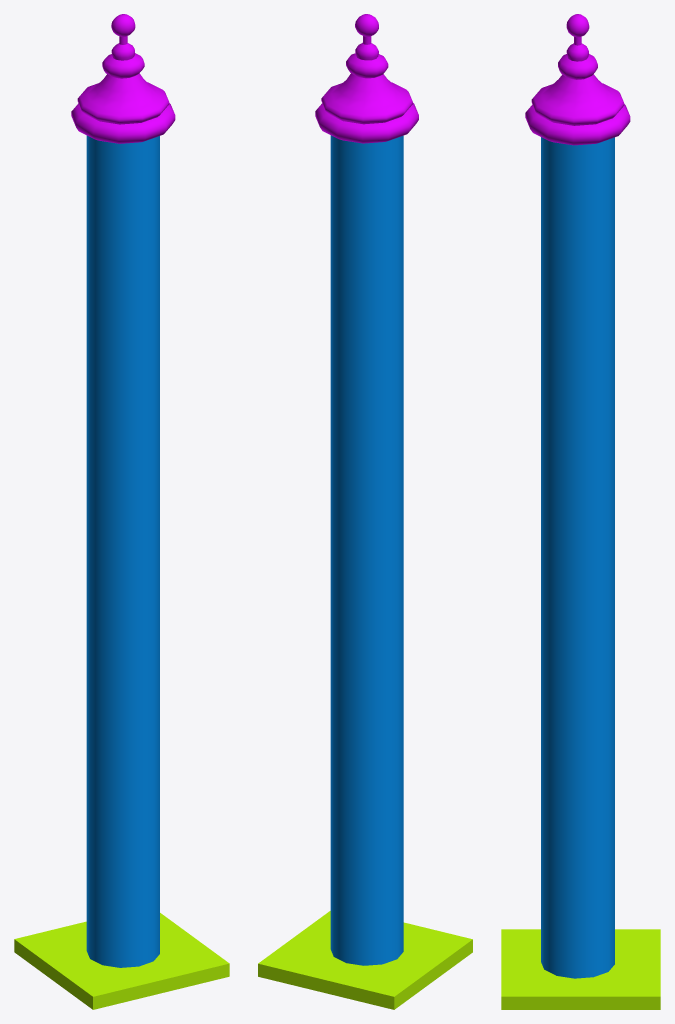
The model's file is Pole.FBX.
3 views of the same model, side by side, from view 1: azimuth 30°, elevation 25°; view 2: azimuth 150°, elevation 25°; view 3: azimuth 270°, elevation 25° (orthographic).
Parts seen in each view (by area): view 1: Pole; view 2: Pole; view 3: Pole.
Boxes of the visible parts, bbox=[...] form: Pole: bbox=[14, 14, 229, 1009]; Pole: bbox=[258, 14, 472, 1009]; Pole: bbox=[501, 14, 660, 1009].
Bounding box in the file's own units: 49.1 × 327 × 49.1.
